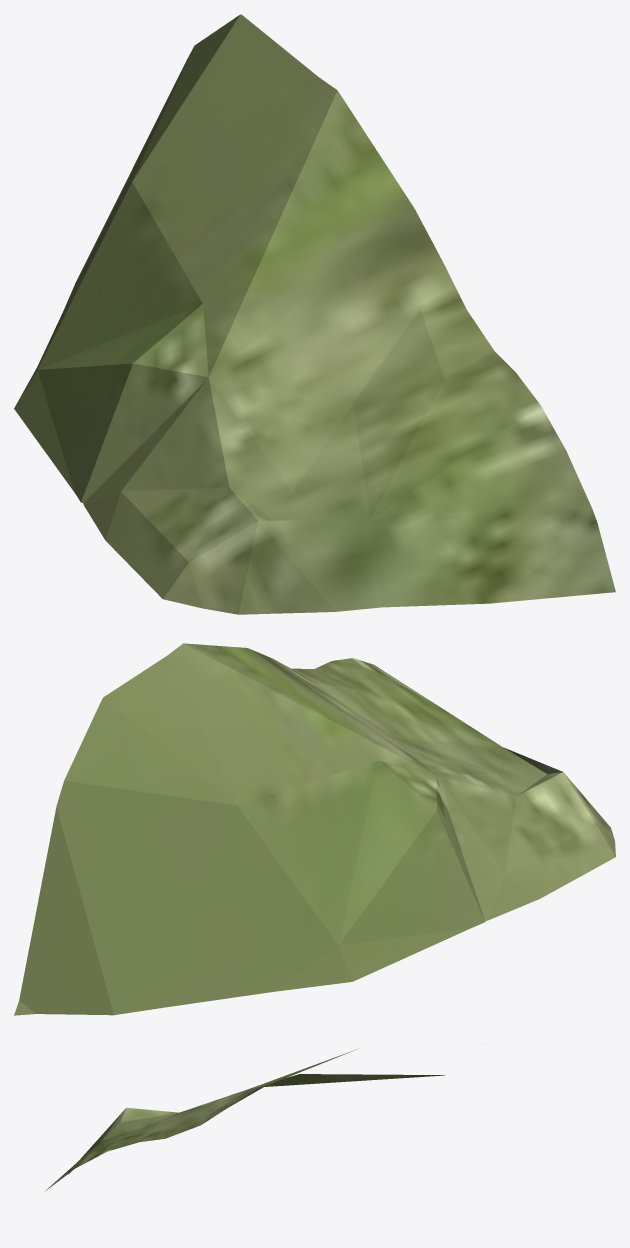
3 renders of one model, top to bottom at view 1: azimuth 30°, elevation 25°; view 2: azimuth 150°, elevation 25°; view 3: azimuth 270°, elevation 25°, orthographic. The views are drawn at different scales.
Bounding box in the file's own units: 3.09 × 2.58 × 7.42.
1 material, 1 textured.
